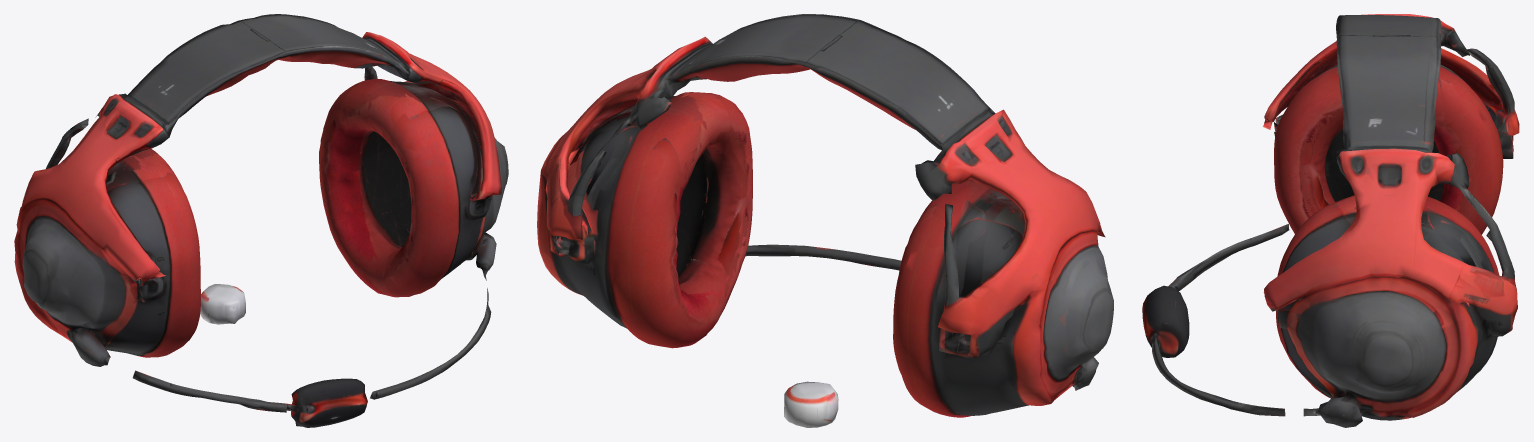
Rendered from 666d1e6f-1838-4f08-9c3d-42b51385dff4.glb.
3 views of the same model, side by side, from view 1: azimuth 30°, elevation 25°; view 2: azimuth 150°, elevation 25°; view 3: azimuth 270°, elevation 25° (orthographic). The views are drawn at different scales.
Bounding box in the file's own units: 2 × 1.24 × 1.29.
1 material, 1 textured.
